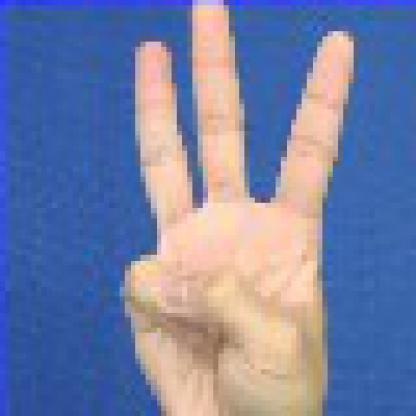three: (93, 0, 358, 411)
